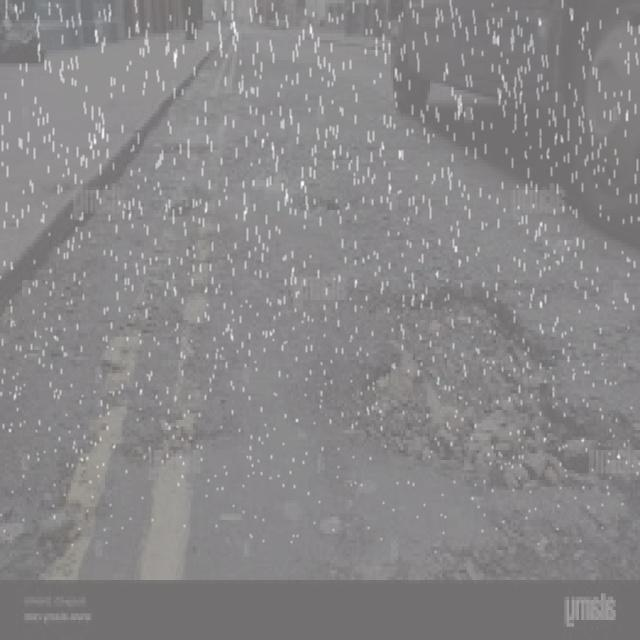Pothole: (352, 262, 640, 538), (116, 382, 220, 469), (141, 153, 226, 230), (272, 169, 342, 220), (176, 278, 223, 338)
